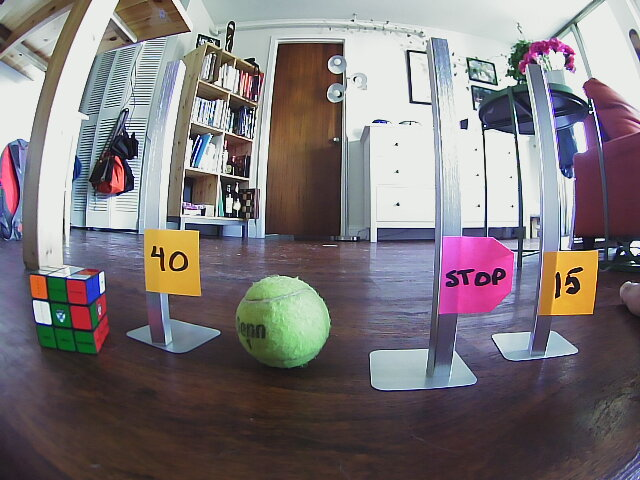15: (544, 255, 591, 313)
40: (145, 232, 199, 294)
ball: (236, 275, 333, 368)
cube: (28, 269, 109, 353)
stop: (443, 241, 511, 312)
